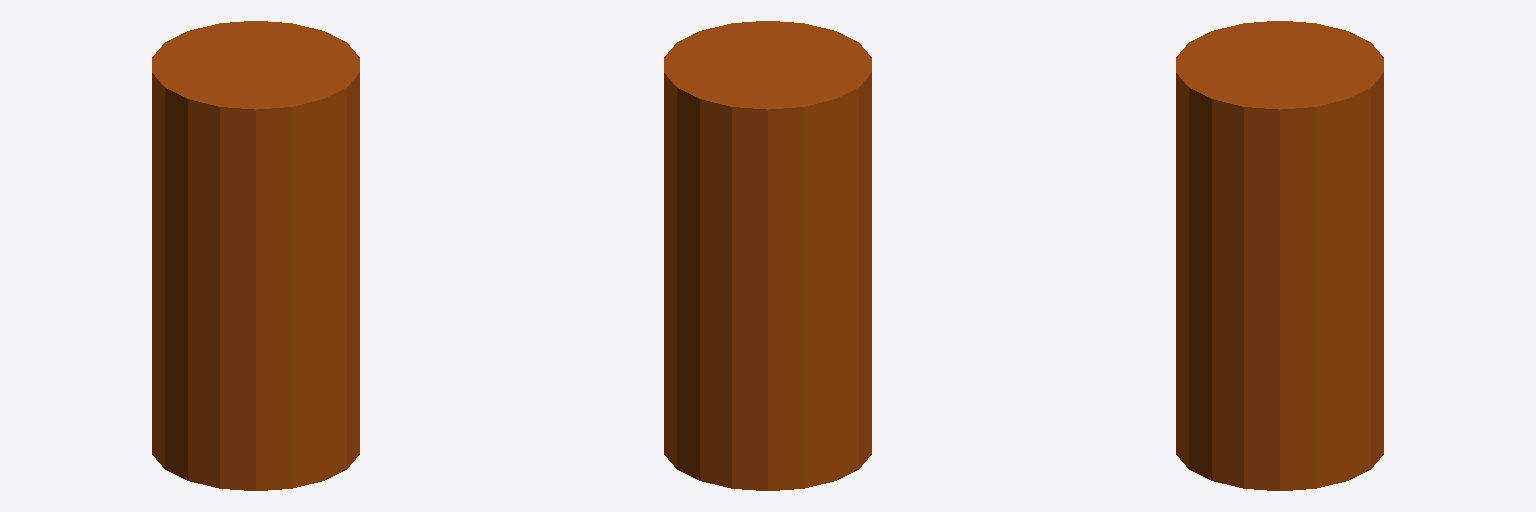
Rendered from crane_arm.obj.
3 renders of one model, left to right at view 1: azimuth 30°, elevation 25°; view 2: azimuth 150°, elevation 25°; view 3: azimuth 270°, elevation 25°, orthographic.
Visible parts, largest first — view 1: Cylinder001; view 2: Cylinder001; view 3: Cylinder001.
Boxes of the visible parts, x1=… form: Cylinder001: x1=152, y1=21, x2=359, y2=490; Cylinder001: x1=664, y1=21, x2=871, y2=490; Cylinder001: x1=1176, y1=21, x2=1383, y2=490.
Size of the model in its own units: 2 by 4 by 1.97.